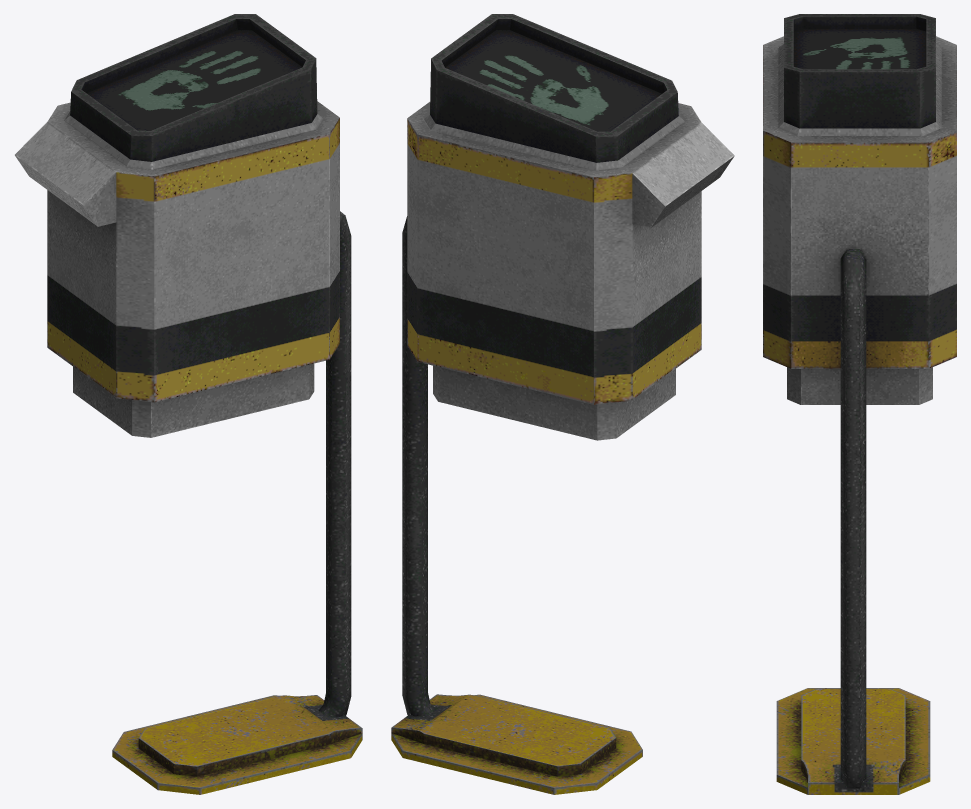
The model's file is SM_Objective.glb.
3 views of the same model, side by side, from view 1: azimuth 30°, elevation 25°; view 2: azimuth 150°, elevation 25°; view 3: azimuth 270°, elevation 25° (orthographic).
Parts seen in each view (by area): view 1: Cube.005; view 2: Cube.005; view 3: Cube.005.
Part boxes in pixels (box(x1,y1,x2,y2)): Cube.005: box(15, 14, 362, 794); Cube.005: box(391, 14, 734, 794); Cube.005: box(763, 14, 956, 794).
Bounding box in the file's own units: 1.07 × 2.43 × 0.6037.
Materials: 1 (1 with a texture image).
